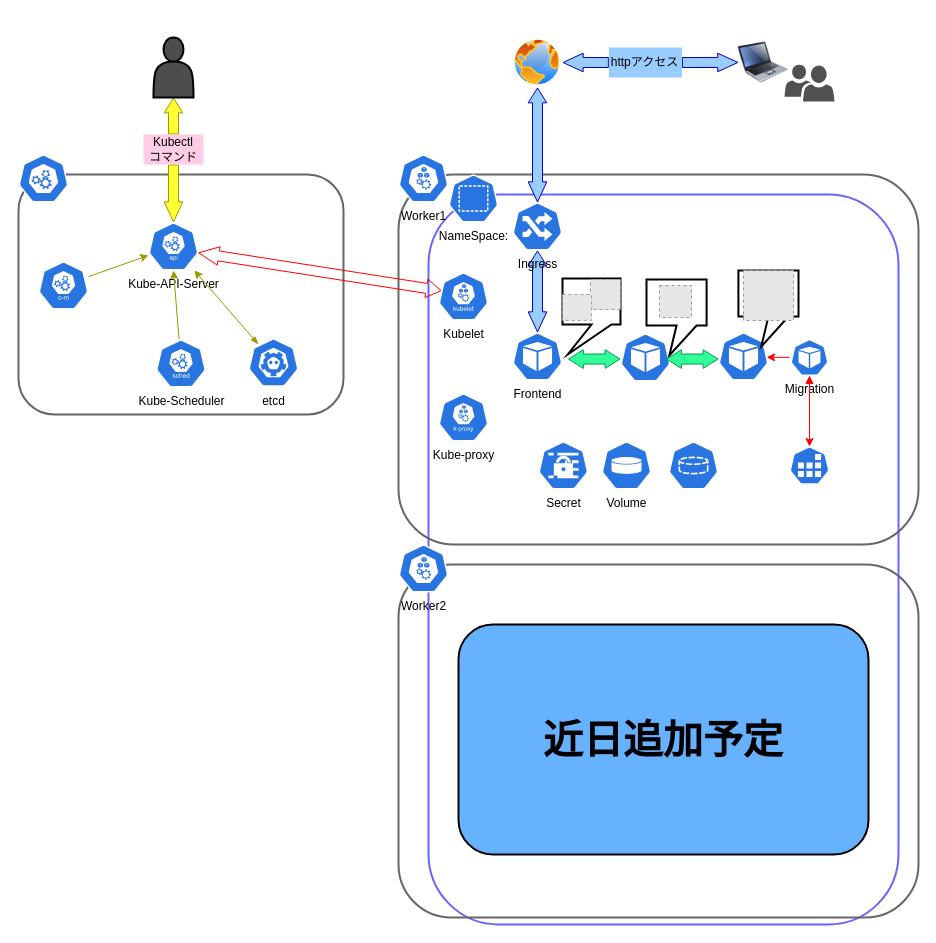
Some shapes in this 936 by 943 pixel diagram are drawn without their labels. Grey dashed boxes stand in for pictures. Here are the shapes that lost their labels. From the top down, the centre of each, then its label:
At pixel 173 67: "Administrator".
At pixel 809 82: "users".
At pixel 43 178: "Controll Plane".
At pixel 63 285: "Controller Manager".
At pixel 645 357: "Backend".
At pixel 743 356: "Database".
At pixel 693 465: "PVC".
At pixel 809 465: "jobs".
